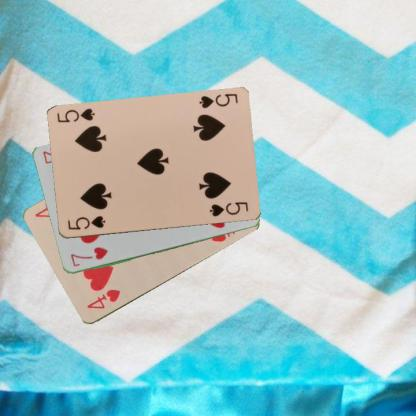4h: (84, 286, 122, 311)
5s: (196, 91, 238, 110), (65, 214, 106, 231)
7h: (68, 244, 108, 268)
